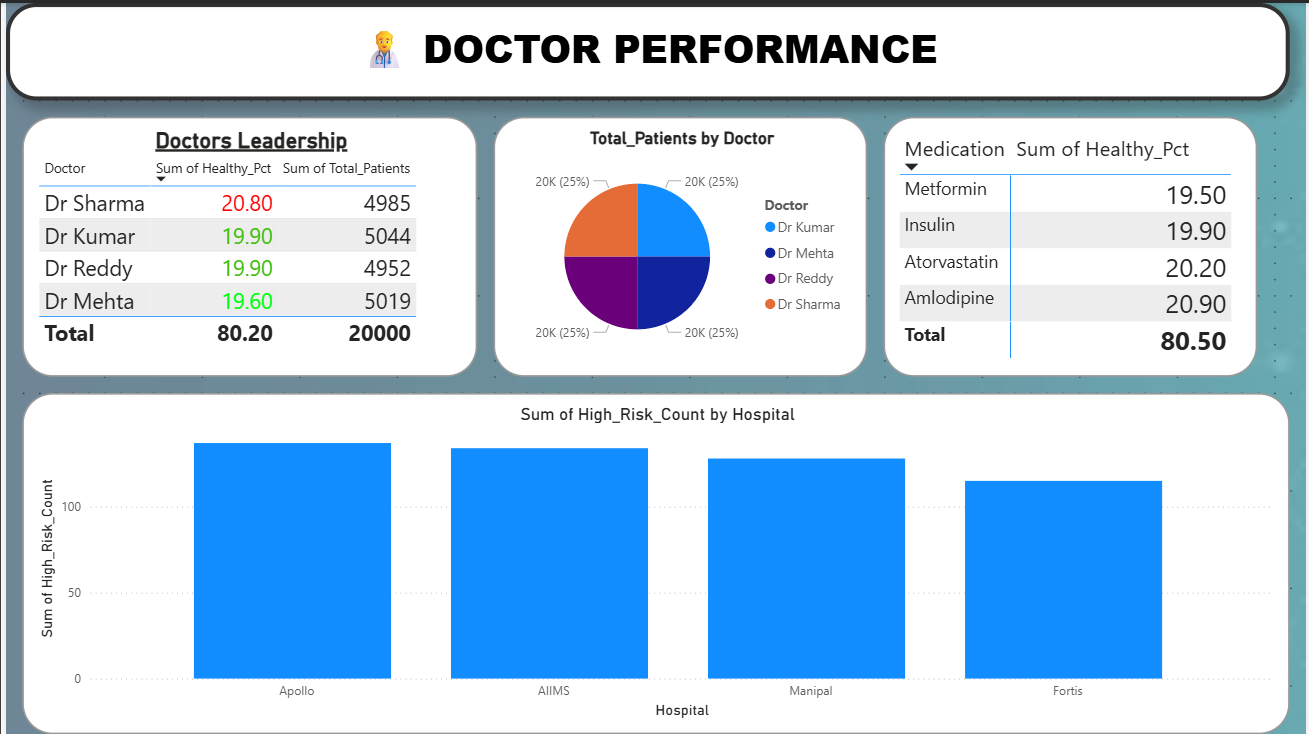

The dashboard page shown, as its layout file describes it:
{"tool":"powerbi","page":{"name":"Clinical Insights","canvas":[1280,720],"ordinal":1},"visuals":[{"type":"textbox","box":[0,0,1264,96],"z":0},{"type":"tableEx","title":"Doctors Leadership","fields":{"Values":["doctor_leaderboard.Doctor","Sum(doctor_leaderboard.Healthy_Pct)","Sum(doctor_leaderboard.Total_Patients)"]},"box":[16,112,448,256],"z":1000},{"type":"pivotTable","fields":{"Values":["Sum(medication_effectiveness.Healthy_Pct)"],"Rows":["medication_effectiveness.Medication"]},"box":[864,112,368,256],"z":2000},{"type":"clusteredColumnChart","fields":{"Y":["Sum(high_risk_patients.High_Risk_Count)"],"Category":["high_risk_patients.Hospital"]},"box":[16,384,1248,336],"z":3000},{"type":"pieChart","title":"Total_Patients by Doctor","fields":{"Category":["doctor_leaderboard.Doctor"],"Y":["Sum(hospital_performance.Total_Patients)"]},"box":[480,112,368,256],"z":4000}]}

Visuals, with their boxes in screenshot pixels (x1, y1, x2, y2), scaled from the page's 1280x720 canvas onto the 1309x734 screenshot:
textbox: {"left": 0, "top": 0, "right": 1293, "bottom": 98}
"Doctors Leadership" tableEx: {"left": 16, "top": 114, "right": 475, "bottom": 375}
pivotTable - Sum(medication_effectiveness.Healthy_Pct) x medication_effectiveness.Medication: {"left": 884, "top": 114, "right": 1260, "bottom": 375}
clusteredColumnChart - Sum(high_risk_patients.High_Risk_Count) x high_risk_patients.Hospital: {"left": 16, "top": 391, "right": 1293, "bottom": 733}
"Total_Patients by Doctor" pieChart: {"left": 491, "top": 114, "right": 867, "bottom": 375}
